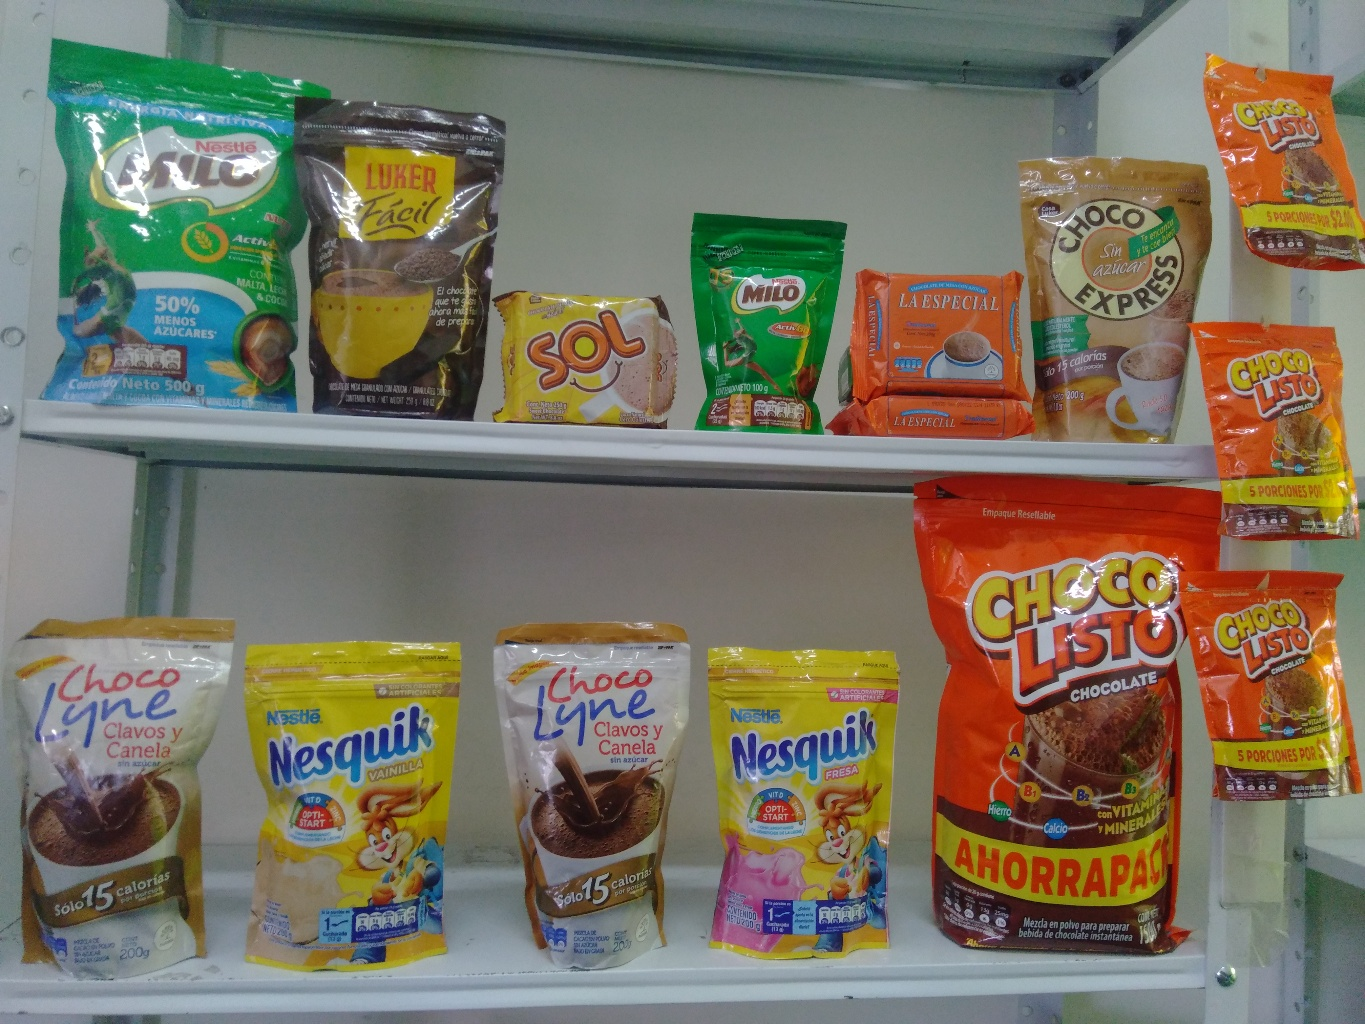COL0170103DYP1,500: (902, 470, 1229, 963)
COL0170203DYP10000: (679, 202, 859, 432)
COL0170205DYP50000: (41, 28, 317, 407)
COL0170305DYP20000: (706, 639, 913, 970)
COL0170306DYP20000: (239, 638, 474, 979)
